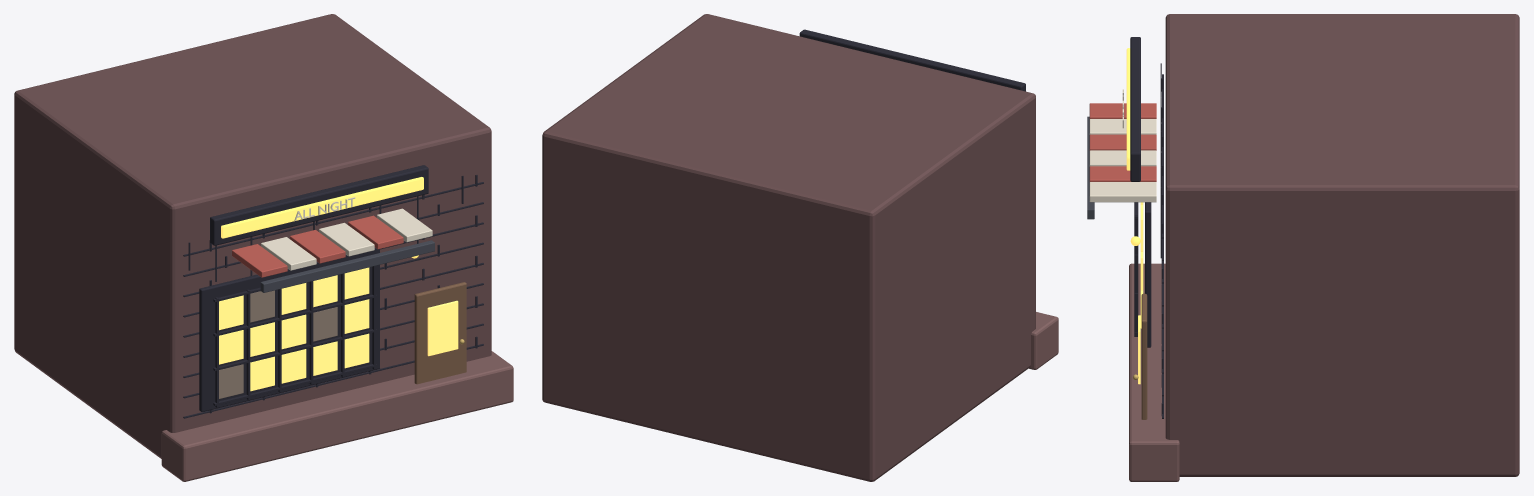
The model's file is cafe-facade.glb.
3 renders of one model, left to right at view 1: azimuth 30°, elevation 25°; view 2: azimuth 150°, elevation 25°; view 3: azimuth 270°, elevation 25°, orthographic. The views are drawn at different scales.
Visible parts, largest first — view 1: deep diner brick shell, glazed tile base, wide diner window recess, diner sign enamel backbox, diner side wood door, amber all night sign glow, awning front lip, diner door lit glass, striped metal awning panel 0, striped metal awning panel 1, striped metal awning panel 3, striped metal awning panel 4 (+22 smaller); view 2: deep diner brick shell, diner sign enamel backbox, glazed tile base; view 3: deep diner brick shell, glazed tile base, diner sign enamel backbox, striped metal awning panel 5, striped metal awning panel 3, striped metal awning panel 2, wide diner window recess, striped metal awning panel 4, diner side wood door, striped metal awning panel 1, striped metal awning panel 0, amber all night sign glow (+1 smaller).
Boxes of the visible parts, left/top/right/bottom form: deep diner brick shell: left=14, top=14, right=491, bottom=458; glazed tile base: left=161, top=351, right=513, bottom=481; wide diner window recess: left=199, top=247, right=379, bottom=411; diner sign enamel backbox: left=210, top=165, right=428, bottom=245; diner side wood door: left=414, top=282, right=466, bottom=384; amber all night sign glow: left=221, top=177, right=423, bottom=238; awning front lip: left=260, top=240, right=434, bottom=292; diner door lit glass: left=427, top=300, right=458, bottom=356; striped metal awning panel 0: left=232, top=244, right=287, bottom=277; striped metal awning panel 1: left=261, top=237, right=316, bottom=270; striped metal awning panel 3: left=319, top=222, right=374, bottom=256; striped metal awning panel 4: left=348, top=215, right=403, bottom=249; deep diner brick shell: left=542, top=14, right=1035, bottom=481; diner sign enamel backbox: left=799, top=29, right=1025, bottom=91; glazed tile base: left=1029, top=312, right=1058, bottom=369; deep diner brick shell: left=1165, top=14, right=1519, bottom=476; glazed tile base: left=1129, top=263, right=1179, bottom=481; diner sign enamel backbox: left=1130, top=37, right=1140, bottom=181; striped metal awning panel 5: left=1089, top=182, right=1156, bottom=202; striped metal awning panel 3: left=1089, top=150, right=1156, bottom=166; striped metal awning panel 2: left=1089, top=134, right=1156, bottom=150; wide diner window recess: left=1145, top=202, right=1151, bottom=347; striped metal awning panel 4: left=1089, top=166, right=1156, bottom=181; diner side wood door: left=1141, top=293, right=1147, bottom=419; striped metal awning panel 1: left=1089, top=119, right=1156, bottom=134; striped metal awning panel 0: left=1089, top=103, right=1156, bottom=118; amber all night sign glow: left=1126, top=48, right=1130, bottom=170.
Bounding box in the file's own units: 6.85 × 5.21 × 6.96.
